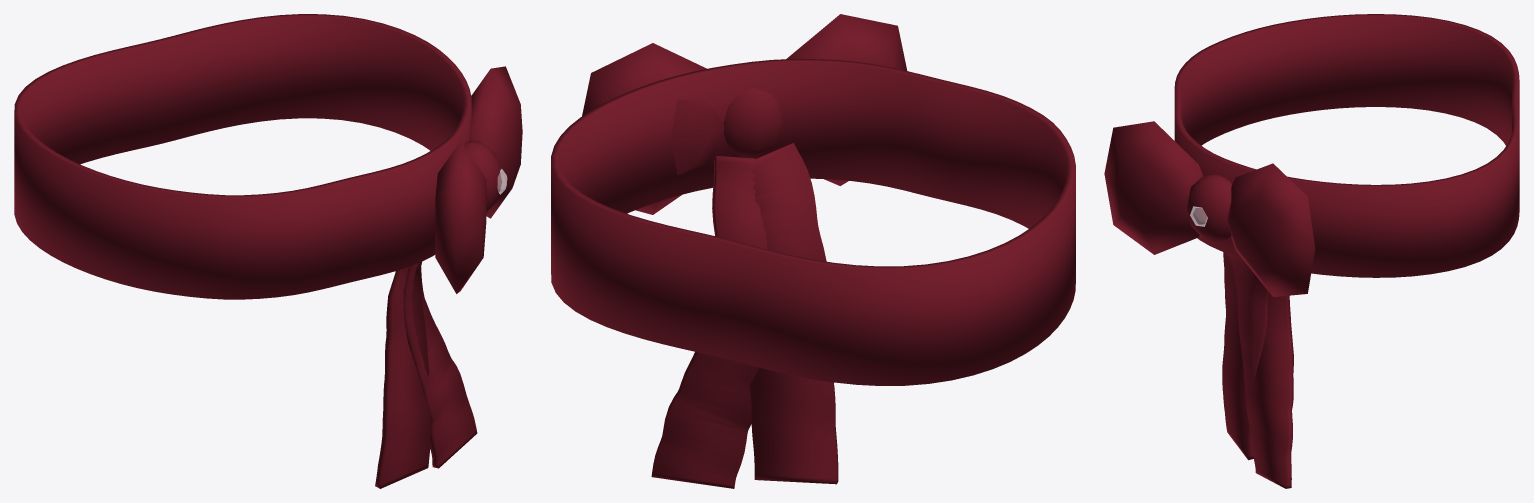
The model's file is satin_sash.glb.
3 renders of one model, left to right at view 1: azimuth 30°, elevation 25°; view 2: azimuth 150°, elevation 25°; view 3: azimuth 270°, elevation 25°, orthographic. The views are drawn at different scales.
Parts seen in each view (by area): view 1: satin_sash; view 2: satin_sash; view 3: satin_sash.
Boxes of the visible parts, left/top/right/bottom form: satin_sash: left=14, top=14, right=522, bottom=488; satin_sash: left=551, top=14, right=1075, bottom=488; satin_sash: left=1104, top=14, right=1519, bottom=488.
Bounding box in the file's own units: 0.2069 × 0.1716 × 0.1917.
